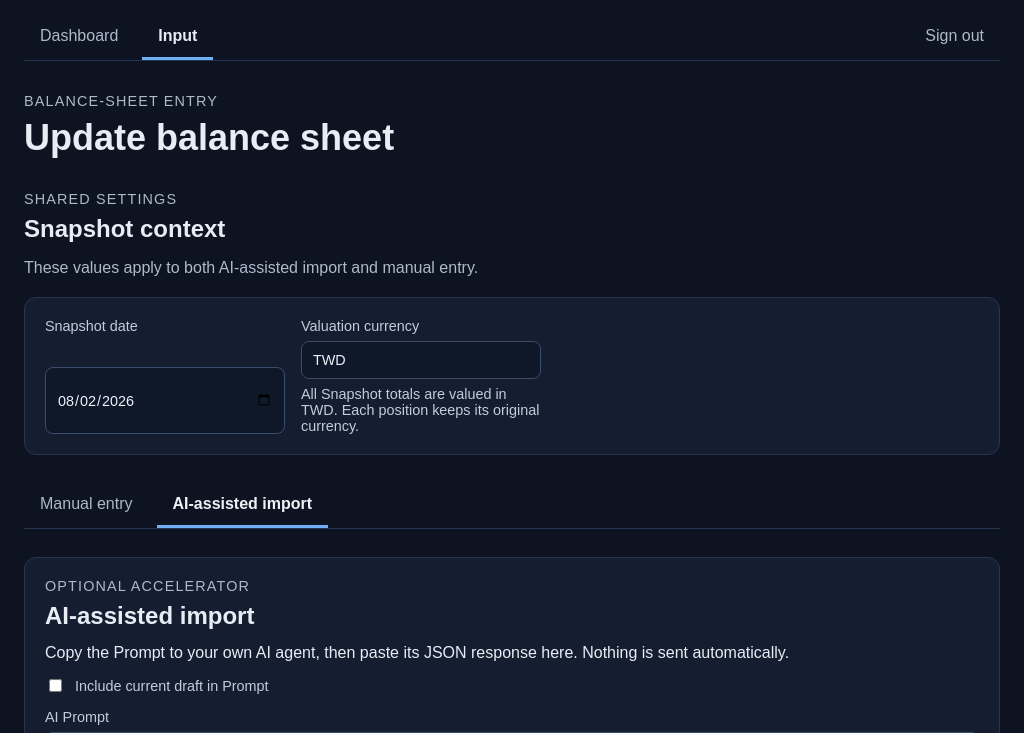
Test: Balance-sheet entry › blocks confirmation when an automatic currency has no eligible rate
Click the tab "Manual entry" at (86, 506), box [24, 483, 148, 528]
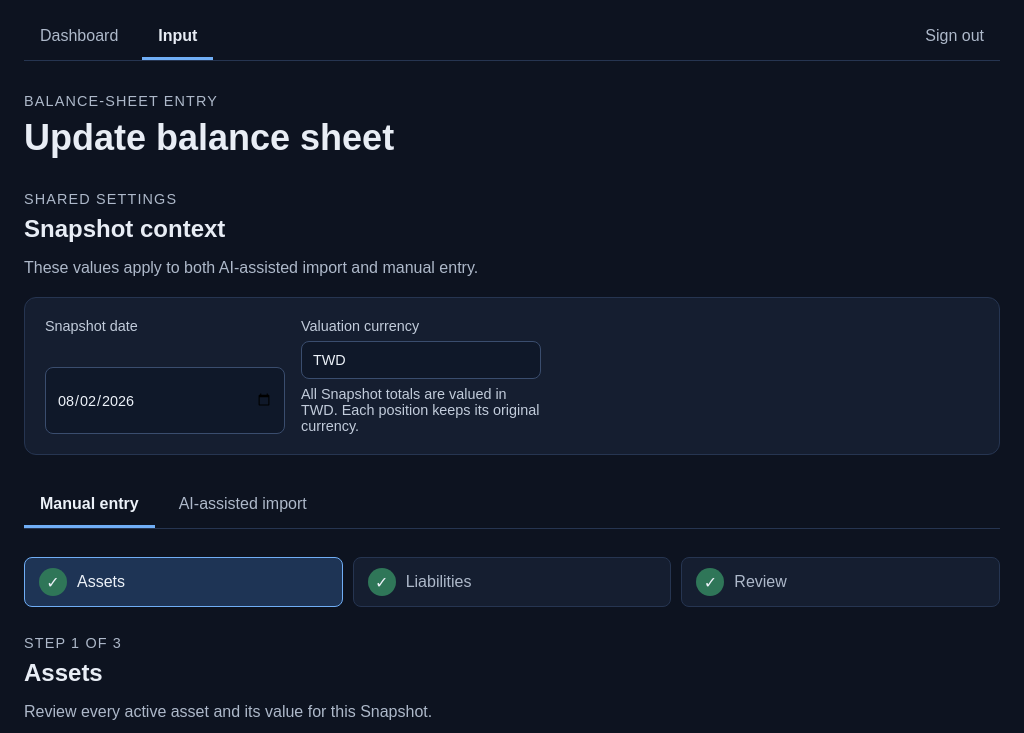
Click the button "✓ Review" at (761, 582), box [681, 557, 1000, 607]
(page scrolled)
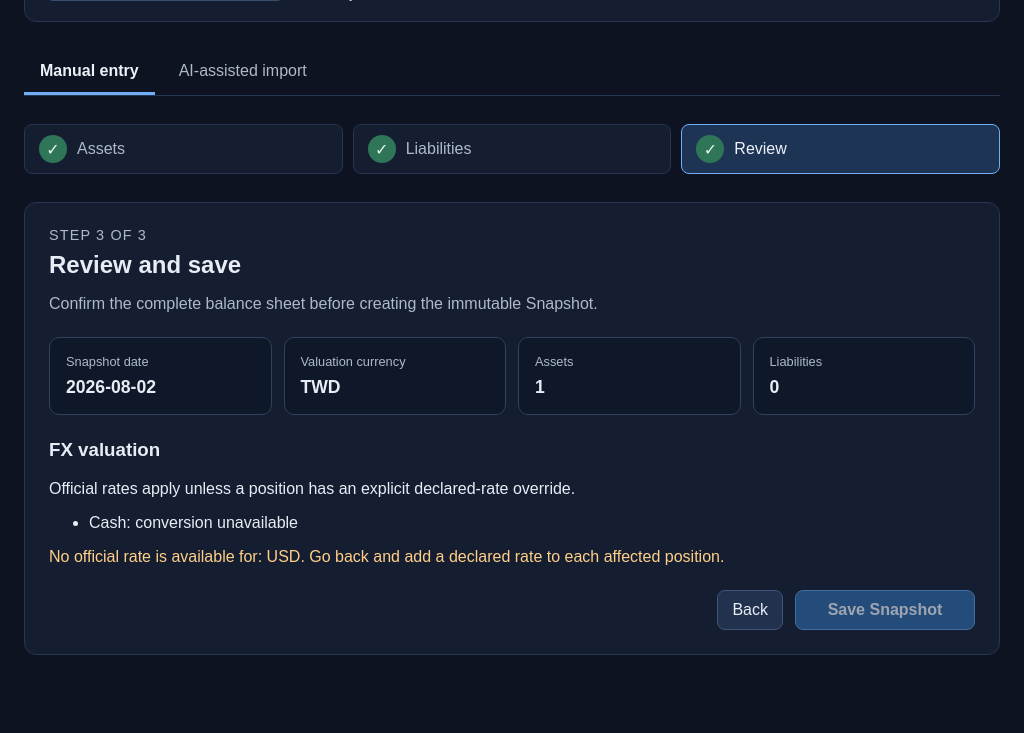
Result: the text "No official rate is available for: USD. Go back and add a declared rate to each affected position." is shown at [49, 548, 724, 565]
Result: the button "Save Snapshot" is disabled at [795, 590, 975, 630]
